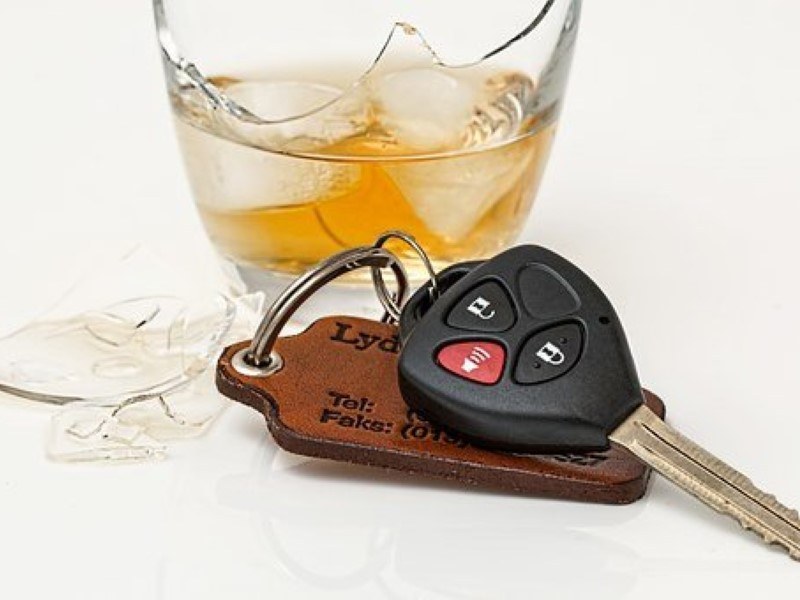carkey: (394, 240, 795, 562)
